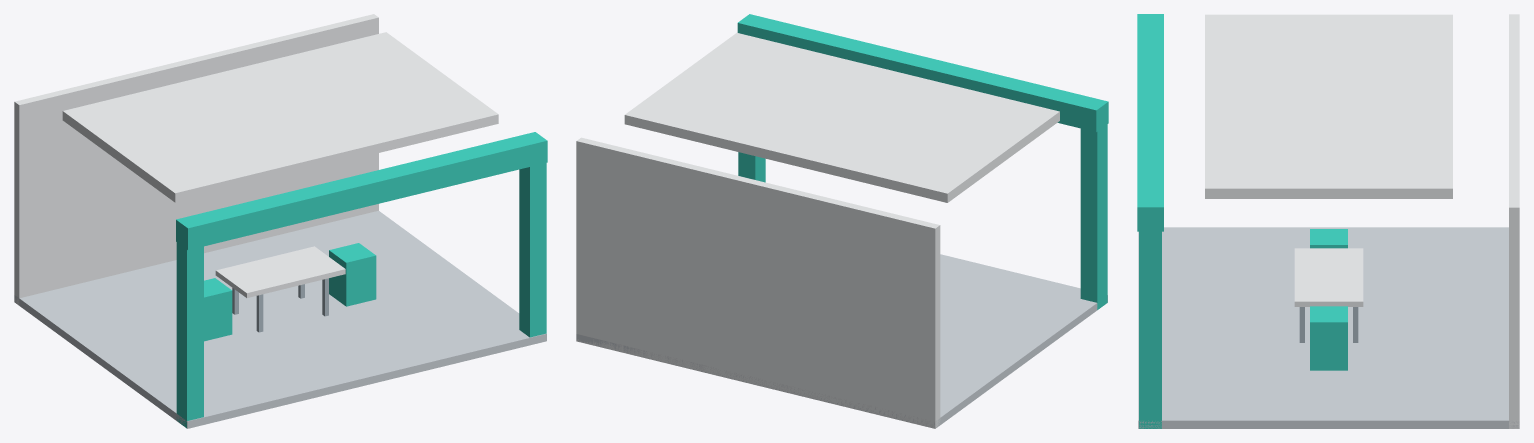
3 views of the same model, side by side, from view 1: azimuth 30°, elevation 25°; view 2: azimuth 150°, elevation 25°; view 3: azimuth 270°, elevation 25° (orthographic). The views are drawn at different scales.
Visible parts, largest first — view 1: Exhibition Booth Concept; view 2: Exhibition Booth Concept; view 3: Exhibition Booth Concept.
Boxes of the visible parts, x1,y1,x2,y2 form: Exhibition Booth Concept: (14, 14, 547, 428); Exhibition Booth Concept: (576, 14, 1108, 428); Exhibition Booth Concept: (1137, 14, 1519, 428).
Bounding box in the file's own units: 6 × 3.34 × 5.02.
